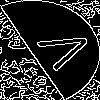V: (25, 25, 97, 76)
